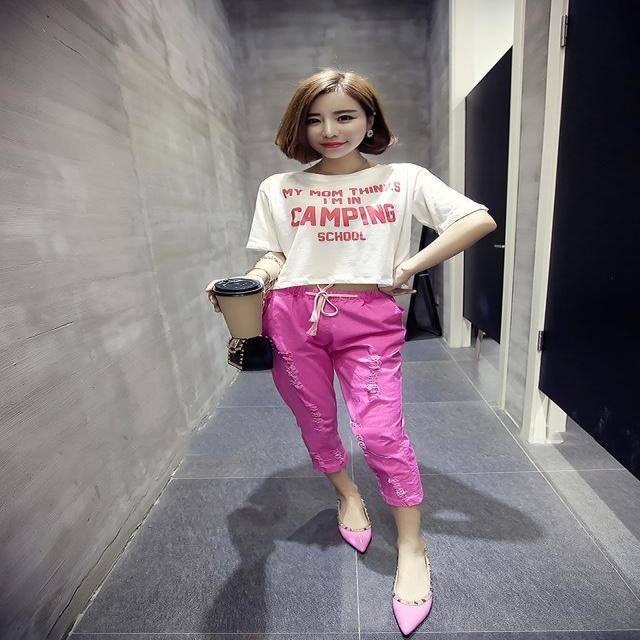short sleeve top: (246, 165, 488, 290)
trousers: (267, 282, 422, 499)
